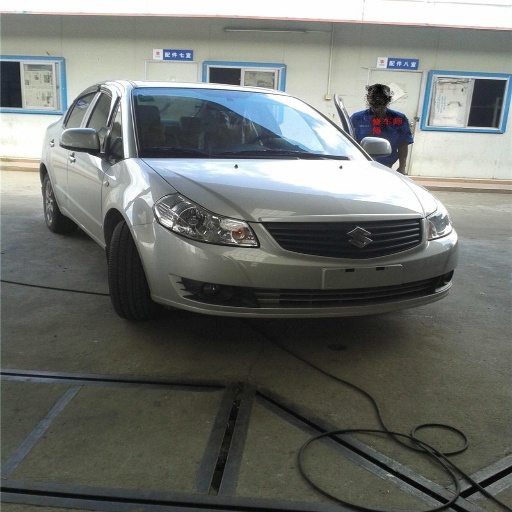front_bumper: (135, 214, 453, 317)
front_right_door: (69, 86, 123, 226)
front_right_light: (155, 189, 258, 246)
hood: (146, 157, 436, 221)
